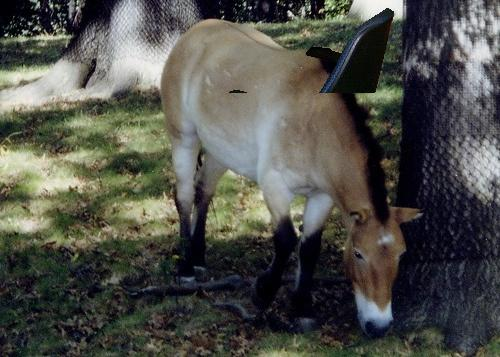tampered: (229, 9, 394, 93)
